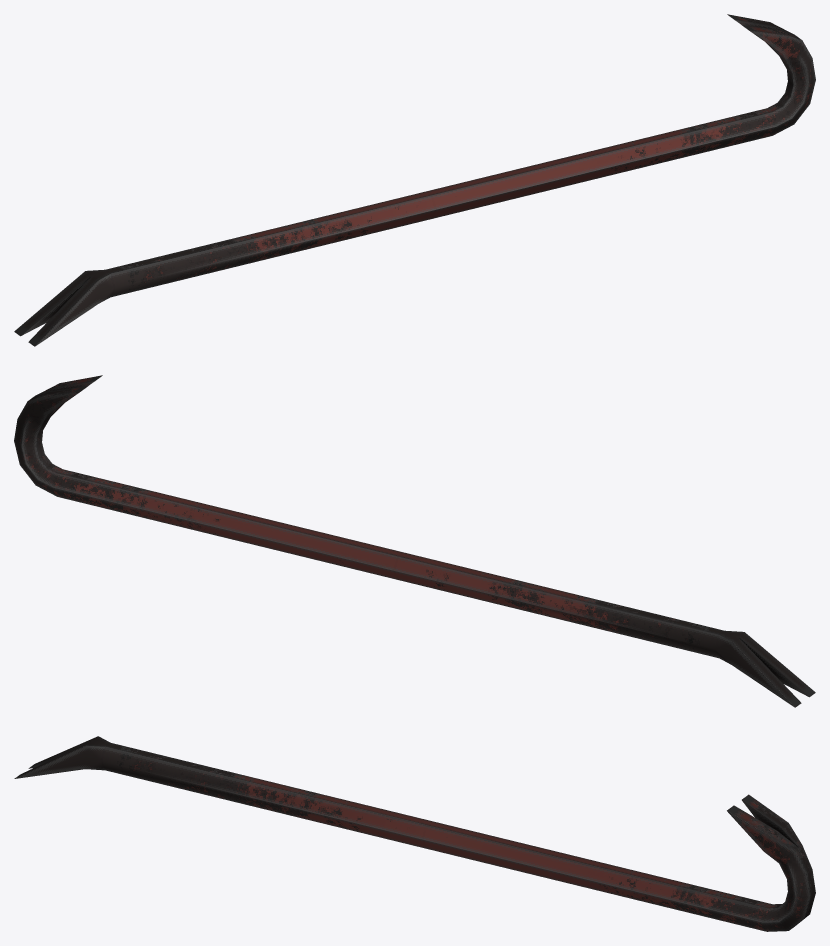
Rendered from crowbar.glb.
The picture shows the model from 3 angles, top to bottom: view 1: azimuth 30°, elevation 25°; view 2: azimuth 150°, elevation 25°; view 3: azimuth 330°, elevation 25°; orthographic projection.
Parts seen in each view (by area): view 1: crowbar; view 2: crowbar; view 3: crowbar.
Part boxes in pixels (x1,y1,x2,y2): crowbar: (14,14,815,346); crowbar: (14,375,815,707); crowbar: (14,736,815,931).
Bounding box in the file's own units: 0.6 × 0.1039 × 0.0293.
Materials: 1 (1 with a texture image).
